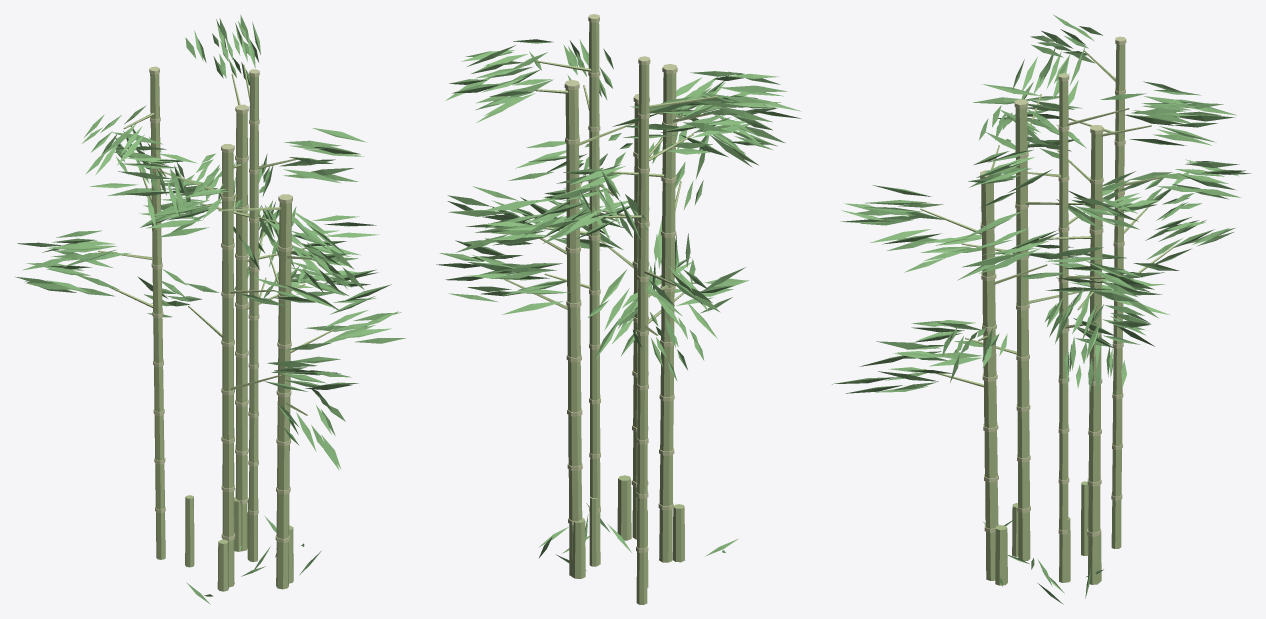
File: plant-bamboo-b.glb
3 views of the same model, side by side, from view 1: azimuth 30°, elevation 25°; view 2: azimuth 150°, elevation 25°; view 3: azimuth 270°, elevation 25° (orthographic). The views are drawn at different scales.
Parts seen in each view (by area): view 1: plant-bamboo-b_full_bambooCulm, plant-bamboo-b_full_bambooLeaf, plant-bamboo-b_full_bambooNode, plant-bamboo-b_cut_bambooCulm; view 2: plant-bamboo-b_full_bambooLeaf, plant-bamboo-b_full_bambooCulm, plant-bamboo-b_cut_bambooCulm, plant-bamboo-b_full_bambooNode, plant-bamboo-b_cut_bambooLeaf; view 3: plant-bamboo-b_full_bambooLeaf, plant-bamboo-b_full_bambooCulm, plant-bamboo-b_full_bambooNode, plant-bamboo-b_cut_bambooCulm.
Part boxes in pixels (x1,y1,x2,y2): plant-bamboo-b_full_bambooCulm: (91, 64, 334, 589); plant-bamboo-b_full_bambooLeaf: (15, 14, 405, 470); plant-bamboo-b_full_bambooNode: (149, 66, 292, 542); plant-bamboo-b_cut_bambooCulm: (185, 495, 293, 591); plant-bamboo-b_full_bambooLeaf: (436, 39, 801, 381); plant-bamboo-b_full_bambooCulm: (504, 22, 717, 604); plant-bamboo-b_cut_bambooCulm: (571, 475, 685, 587); plant-bamboo-b_full_bambooNode: (564, 14, 677, 552); plant-bamboo-b_cut_bambooLeaf: (538, 503, 738, 570); plant-bamboo-b_full_bambooLeaf: (832, 14, 1251, 395); plant-bamboo-b_full_bambooCulm: (920, 44, 1174, 584); plant-bamboo-b_full_bambooNode: (980, 36, 1126, 536); plant-bamboo-b_cut_bambooCulm: (995, 481, 1101, 585).
Size of the model in its own units: 3.67 by 5.52 by 4.16.
